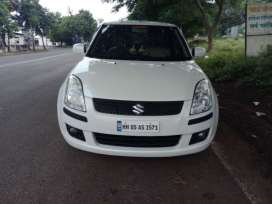nameplate: (117, 120, 159, 131)
